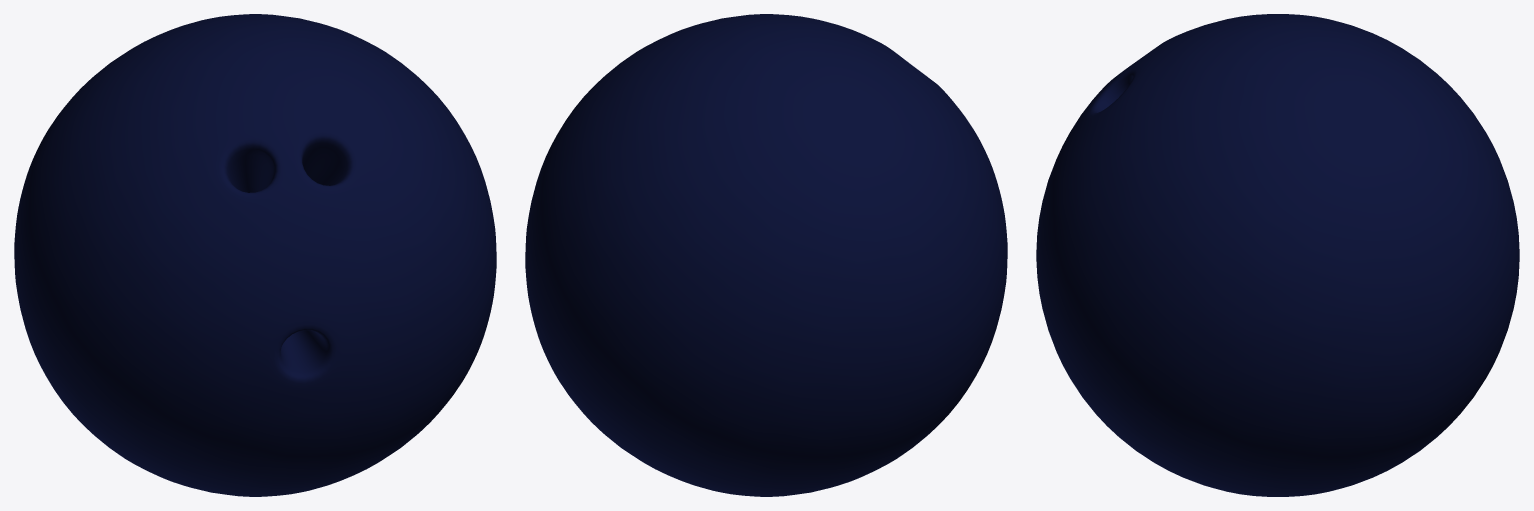
Rendered from SM_BowlingBall.fbx.
3 renders of one model, left to right at view 1: azimuth 30°, elevation 25°; view 2: azimuth 150°, elevation 25°; view 3: azimuth 270°, elevation 25°, orthographic.
Parts seen in each view (by area): view 1: BowlingBall_low; view 2: BowlingBall_low; view 3: BowlingBall_low.
Part boxes in pixels (box(x1,y1,x2,y2)): BowlingBall_low: box(14, 14, 496, 496); BowlingBall_low: box(525, 14, 1007, 496); BowlingBall_low: box(1036, 14, 1519, 496).
Size of the model in its own units: 21.4 by 21.38 by 21.5.
